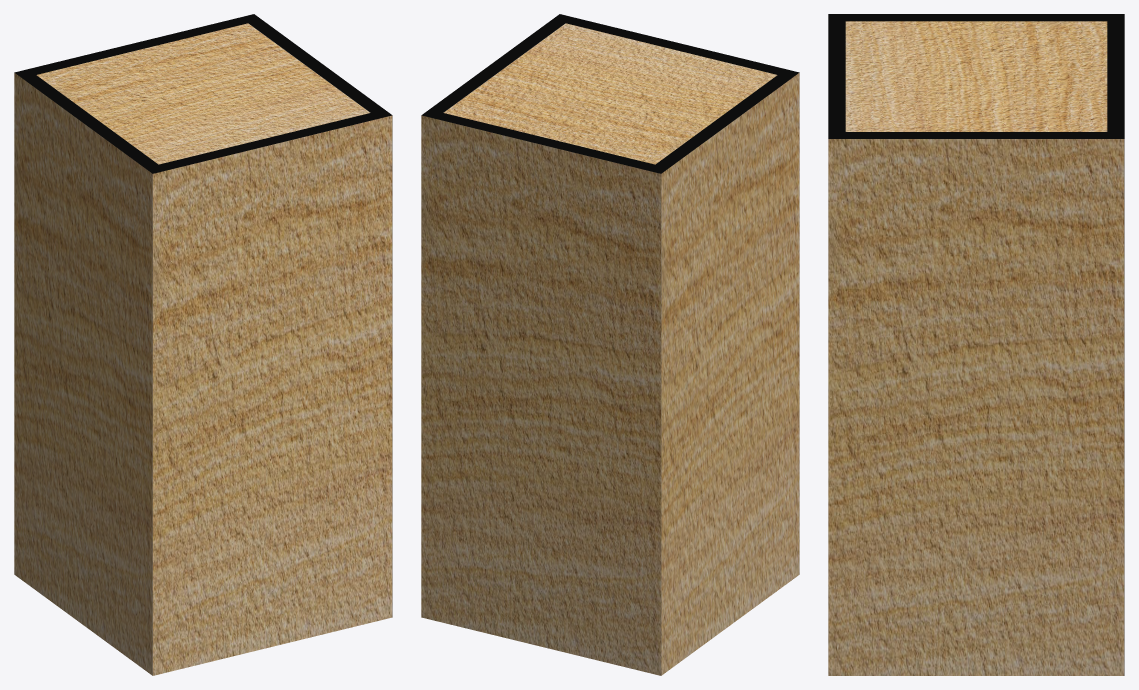
The model's file is column.FBX.
3 renders of one model, left to right at view 1: azimuth 30°, elevation 25°; view 2: azimuth 150°, elevation 25°; view 3: azimuth 270°, elevation 25°, orthographic. The views are drawn at different scales.
Visible parts, largest first — view 1: Box001; view 2: Box001; view 3: Box001.
Boxes of the visible parts, left/top/right/bottom form: Box001: left=14, top=14, right=392, bottom=675; Box001: left=421, top=14, right=799, bottom=675; Box001: left=828, top=14, right=1124, bottom=675.
Bounding box in the file's own units: 50 × 100 × 50.
